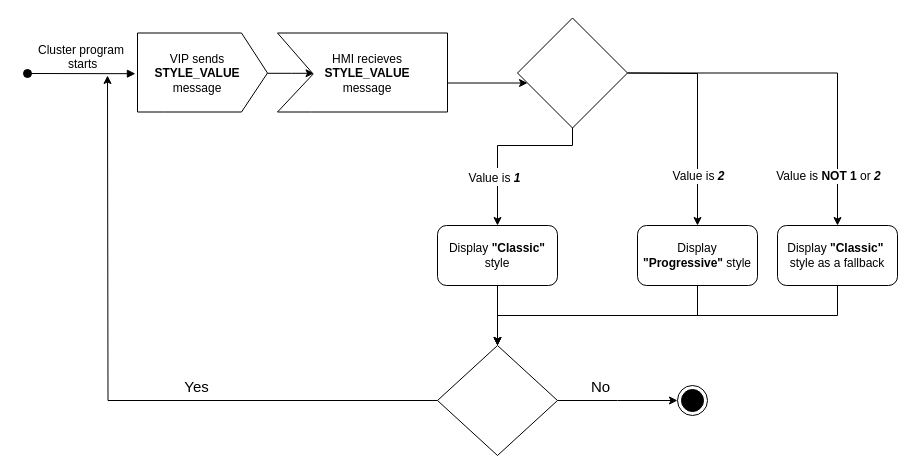
The diagram is 915 pixels wide and 473 high, and some of its shapes have lost their labels. Each missing label, with the centre of its shape:
"Check recieved value" goes at point (572, 72).
"Is cluster program still active" goes at point (497, 400).
